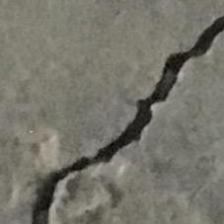Crack: (24, 5, 224, 224)
